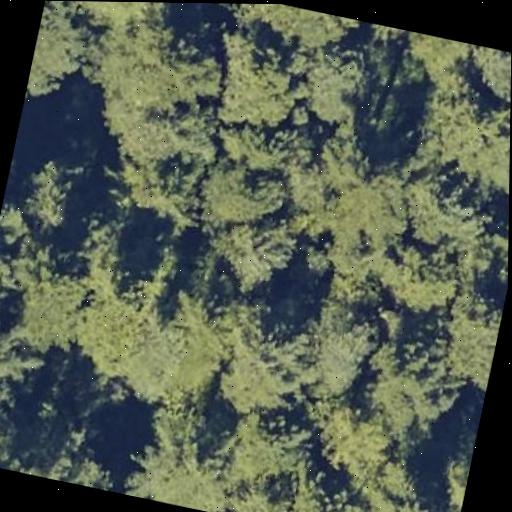tree-top: (65, 6, 234, 179), (289, 142, 427, 280), (185, 272, 311, 421), (118, 394, 245, 512), (124, 291, 236, 423), (362, 325, 472, 446), (201, 26, 316, 138), (286, 285, 390, 407), (186, 142, 301, 240), (298, 32, 405, 133), (393, 180, 509, 272), (63, 276, 162, 381), (203, 202, 308, 301), (311, 387, 410, 484), (210, 3, 375, 60), (200, 108, 324, 182), (215, 403, 315, 494), (0, 422, 128, 493), (428, 95, 511, 203), (430, 279, 507, 395), (9, 255, 97, 355), (113, 154, 206, 238), (27, 0, 99, 98), (0, 180, 52, 309), (385, 28, 488, 93), (378, 242, 462, 321), (280, 460, 404, 512), (351, 458, 467, 512), (22, 146, 95, 231), (55, 1, 162, 33), (0, 308, 28, 425), (229, 467, 300, 512), (466, 45, 511, 104), (367, 23, 417, 51)
